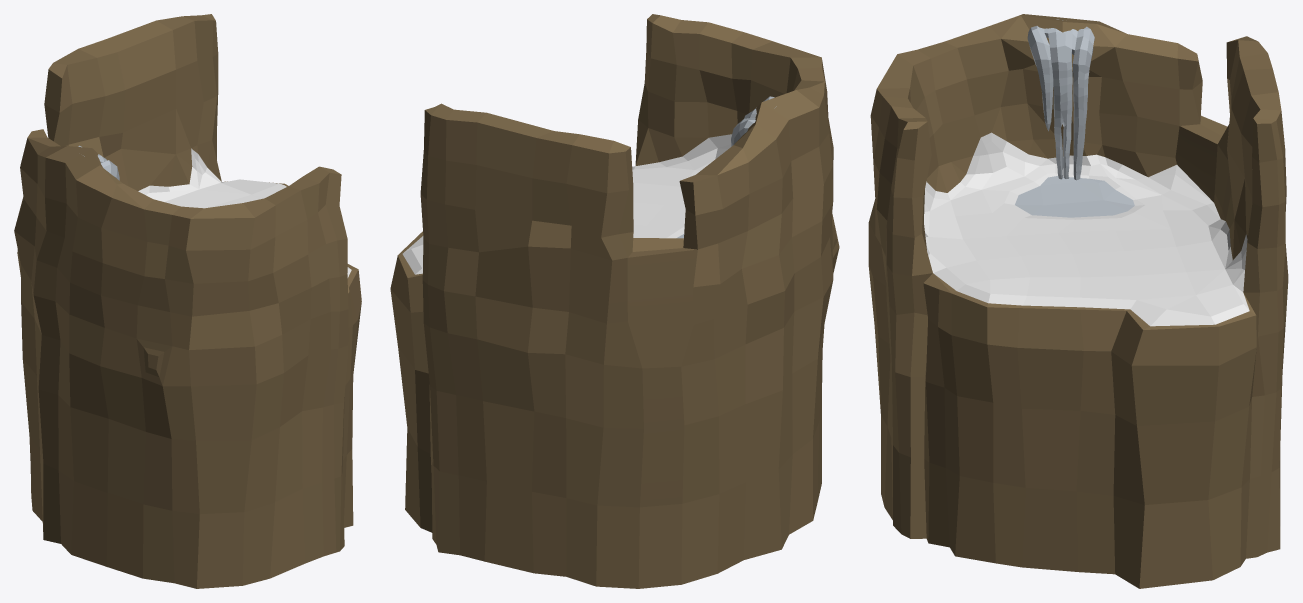
File: LightRockFloorMediumSnowyPlatform1.fbx
The picture shows the model from 3 angles, left to right: view 1: azimuth 30°, elevation 25°; view 2: azimuth 150°, elevation 25°; view 3: azimuth 270°, elevation 25°; orthographic projection. The views are drawn at different scales.
Visible parts, largest first — view 1: LightRockFloorMediumSnowyPlatform1; view 2: LightRockFloorMediumSnowyPlatform1; view 3: LightRockFloorMediumSnowyPlatform1.
Part boxes in pixels (left/top/right/bottom): LightRockFloorMediumSnowyPlatform1: left=14, top=14, right=361, bottom=588; LightRockFloorMediumSnowyPlatform1: left=390, top=14, right=839, bottom=588; LightRockFloorMediumSnowyPlatform1: left=868, top=14, right=1288, bottom=588.
Bounding box in the file's own units: 2489 × 3125 × 2666.
